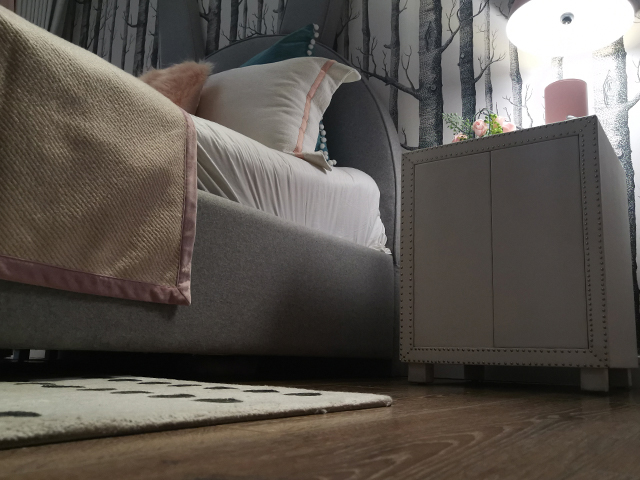bed: (1, 1, 410, 379)
cabinet: (396, 113, 640, 394)
carpet: (1, 373, 394, 450)
